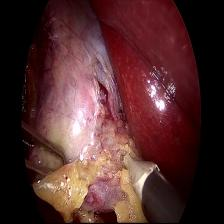Grasper: (20, 121, 69, 187)
Hook: (117, 146, 163, 194)
